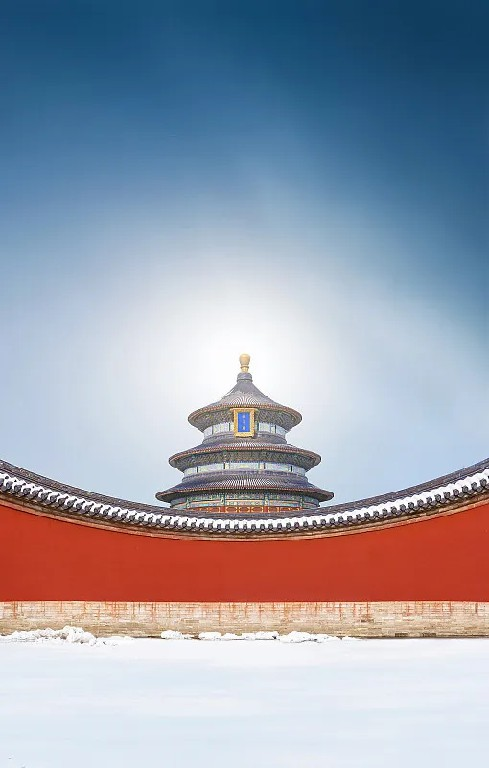Heaven: (155, 354, 334, 515)
